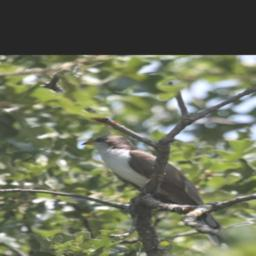Cuckoo: (80, 134, 240, 248)
